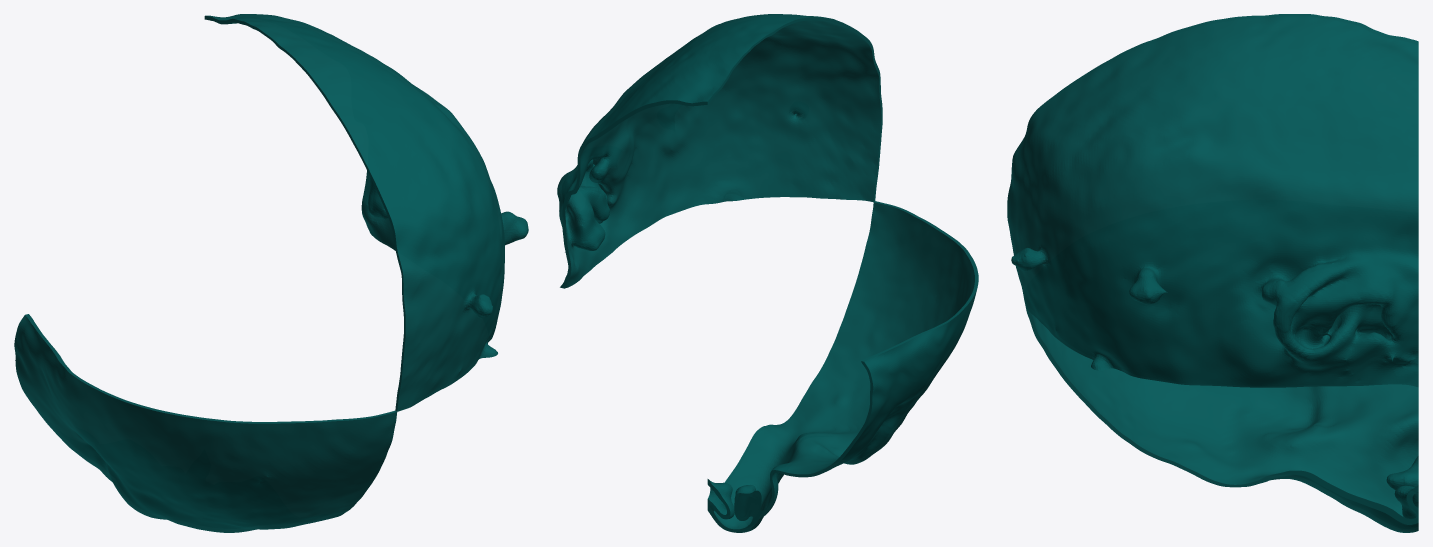
File: Scalp_quadrants.obj
3 renders of one model, left to right at view 1: azimuth 30°, elevation 25°; view 2: azimuth 150°, elevation 25°; view 3: azimuth 270°, elevation 25°, orthographic. The views are drawn at different scales.
Visible parts, largest first — view 1: grp1; view 2: grp1; view 3: grp1.
Boxes of the visible parts, x1=… form: grp1: x1=14, y1=14, x2=528, y2=532; grp1: x1=557, y1=14, x2=978, y2=532; grp1: x1=1007, y1=14, x2=1418, y2=532.
Bounding box in the file's own units: 176 × 211 × 149.
